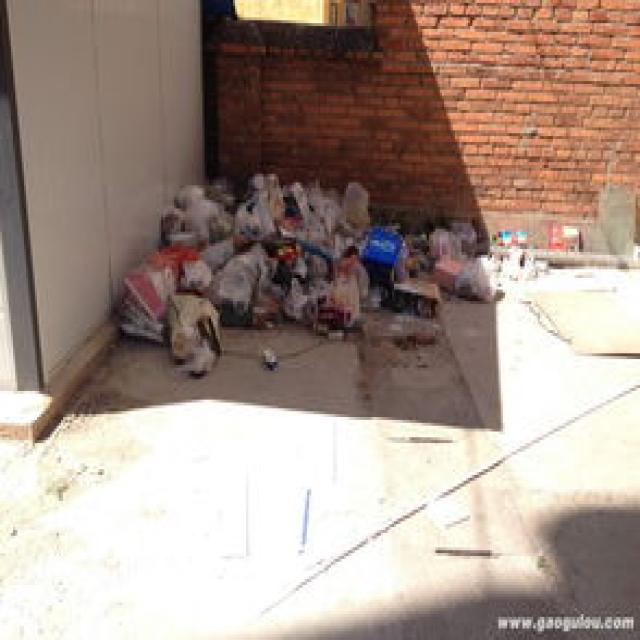garbage: (113, 168, 581, 374)
